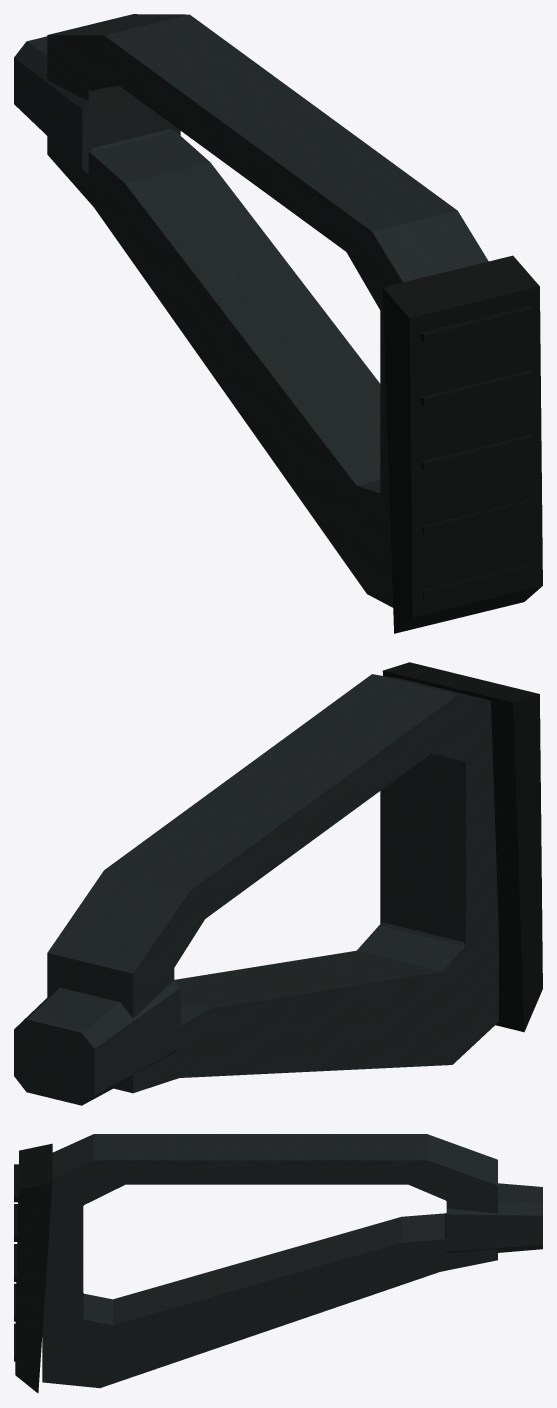
Rendered from scorpion_stock.glb.
3 views of the same model, one above another, from view 1: azimuth 30°, elevation 25°; view 2: azimuth 150°, elevation 25°; view 3: azimuth 270°, elevation 25° (orthographic). The views are drawn at different scales.
Visible parts, largest first — view 1: stock__scorpion_stock_LOD0_RAID_Secondary_Original_polymer, stock__scorpion_stock_LOD1_RAID_Secondary_Original_polymer, stock__scorpion_stock_LOD0_RAID_Secondary_Original_rubber, stock__scorpion_stock_LOD1_RAID_Secondary_Original_rubber; view 2: stock__scorpion_stock_LOD0_RAID_Secondary_Original_polymer, stock__scorpion_stock_LOD1_RAID_Secondary_Original_polymer, stock__scorpion_stock_LOD0_RAID_Secondary_Original_rubber, stock__scorpion_stock_LOD1_RAID_Secondary_Original_rubber; view 3: stock__scorpion_stock_LOD0_RAID_Secondary_Original_polymer, stock__scorpion_stock_LOD1_RAID_Secondary_Original_polymer, stock__scorpion_stock_LOD0_RAID_Secondary_Original_rubber, stock__scorpion_stock_LOD1_RAID_Secondary_Original_rubber.
Boxes of the visible parts, x1=… form: stock__scorpion_stock_LOD0_RAID_Secondary_Original_polymer: x1=14, y1=15, x2=486, y2=604; stock__scorpion_stock_LOD1_RAID_Secondary_Original_polymer: x1=47, y1=14, x2=488, y2=607; stock__scorpion_stock_LOD0_RAID_Secondary_Original_rubber: x1=383, y1=258, x2=540, y2=627; stock__scorpion_stock_LOD1_RAID_Secondary_Original_rubber: x1=382, y1=255, x2=542, y2=633; stock__scorpion_stock_LOD0_RAID_Secondary_Original_polymer: x1=14, y1=674, x2=498, y2=1105; stock__scorpion_stock_LOD1_RAID_Secondary_Original_polymer: x1=47, y1=674, x2=498, y2=1093; stock__scorpion_stock_LOD0_RAID_Secondary_Original_rubber: x1=385, y1=663, x2=542, y2=1028; stock__scorpion_stock_LOD1_RAID_Secondary_Original_rubber: x1=382, y1=662, x2=542, y2=1032; stock__scorpion_stock_LOD0_RAID_Secondary_Original_polymer: x1=45, y1=1134, x2=542, y2=1386; stock__scorpion_stock_LOD1_RAID_Secondary_Original_polymer: x1=42, y1=1134, x2=497, y2=1388; stock__scorpion_stock_LOD0_RAID_Secondary_Original_rubber: x1=14, y1=1145, x2=51, y2=1390; stock__scorpion_stock_LOD1_RAID_Secondary_Original_rubber: x1=15, y1=1143, x2=52, y2=1393.
Size of the model in its own units: 0.073 by 0.196 by 0.412.
2 materials, 2 textured.
